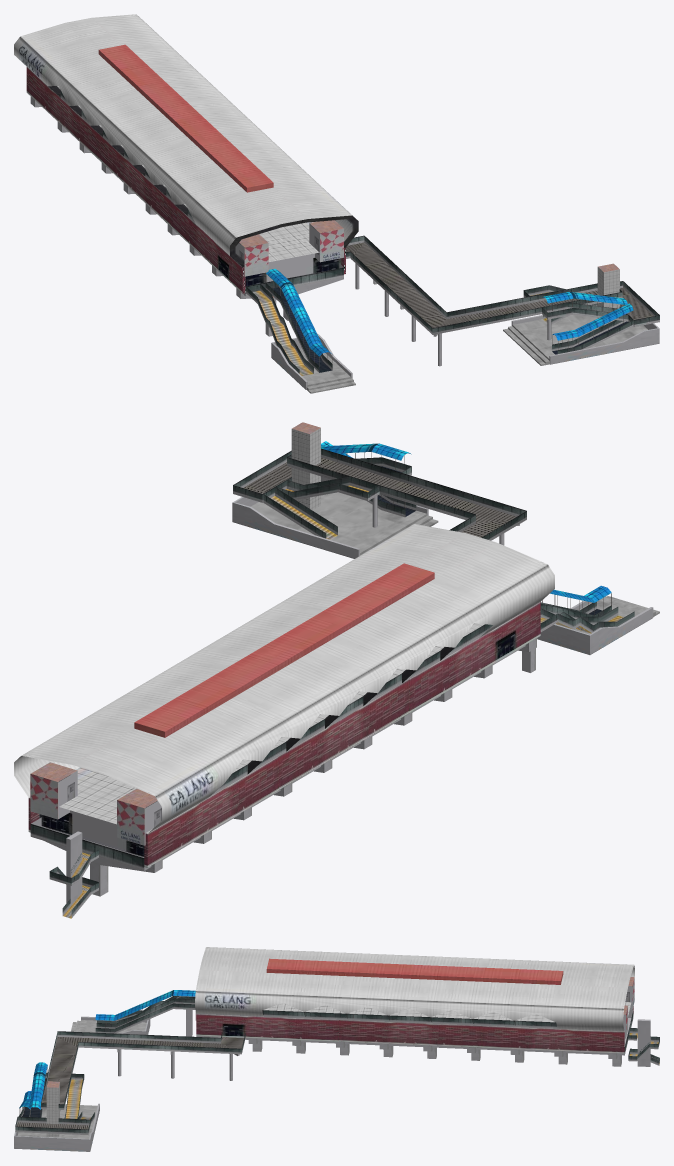
3 views of the same model, one above another, from view 1: azimuth 30°, elevation 25°; view 2: azimuth 150°, elevation 25°; view 3: azimuth 270°, elevation 25° (orthographic). The views are drawn at different scales.
Visible parts, largest first — view 1: HN1258___Lang_Metro_Station; view 2: HN1258___Lang_Metro_Station; view 3: HN1258___Lang_Metro_Station.
Boxes of the visible parts, x1,y1,x2,y2 form: HN1258___Lang_Metro_Station: (14,14,659,393); HN1258___Lang_Metro_Station: (14,422,659,918); HN1258___Lang_Metro_Station: (14,947,659,1151).
Bounding box in the file's own units: 70.99 × 22.19 × 150.
Materials: 1 (1 with a texture image).
